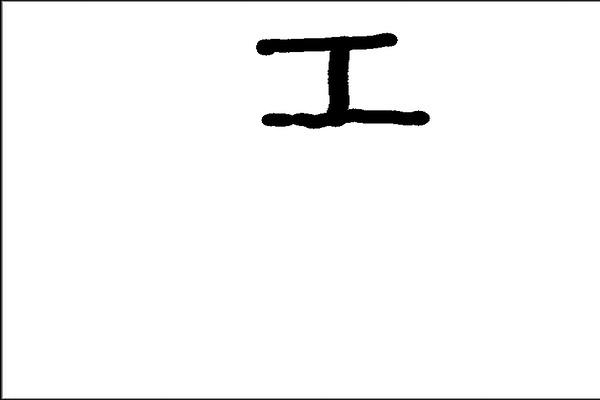i: (245, 24, 434, 143)
